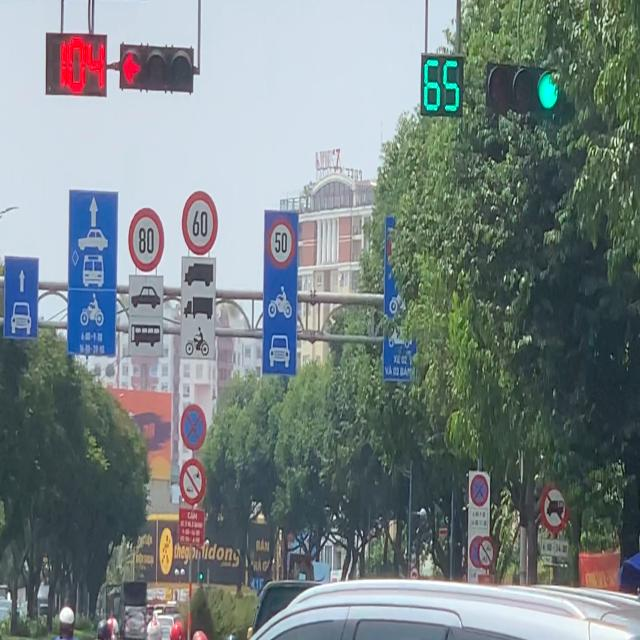Cam con lai: (542, 485, 566, 538)
Cam dung va do: (180, 403, 208, 452), (469, 470, 490, 510)
Toc do toi da: (180, 189, 224, 252), (129, 206, 164, 273), (265, 208, 296, 268)
